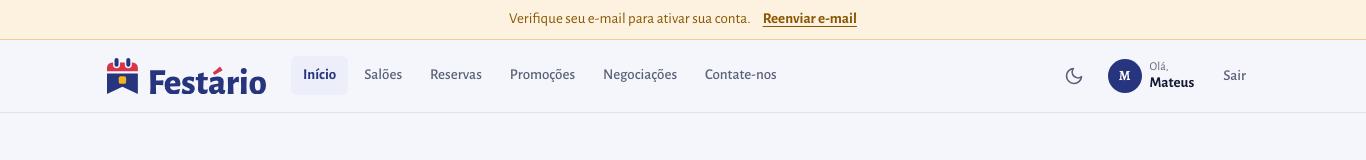
Test case: Header — unverified email banner › disables the resend button and shows loading text while request is in flight
Click the button "Reenviar e-mail": (810, 19) [763,10,857,28]
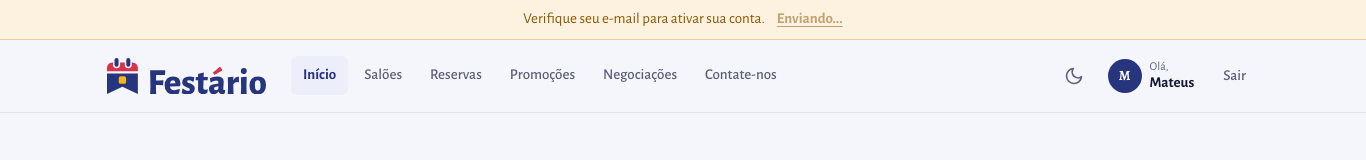
Result: the button "Enviando..." is disabled at [777,10,843,28]
